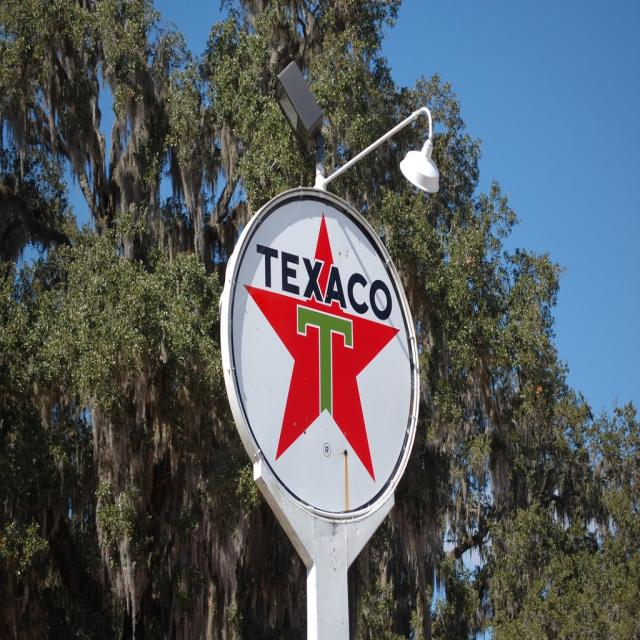texaco: (230, 197, 414, 518)
